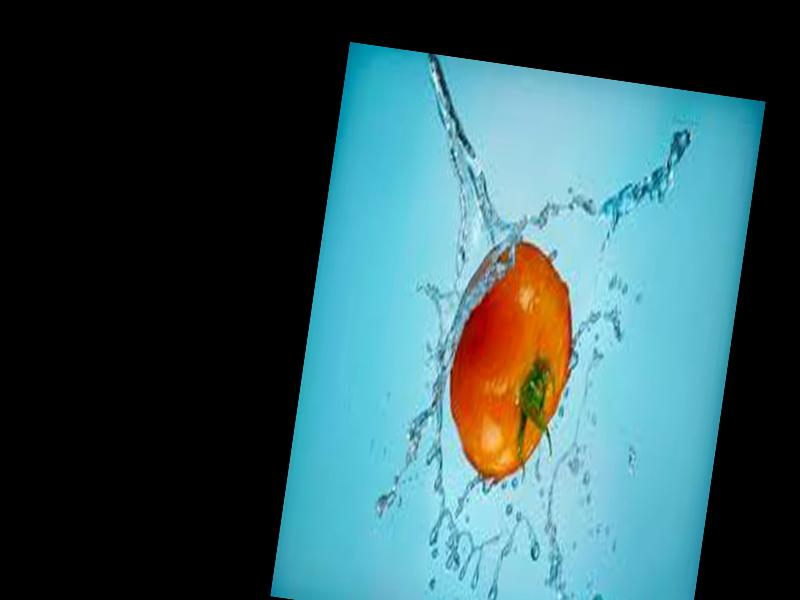Tomato: (434, 234, 584, 489)
